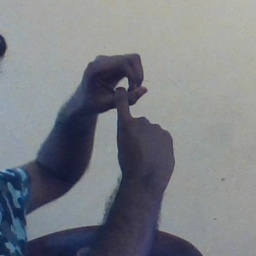Q: (77, 52, 178, 173)
